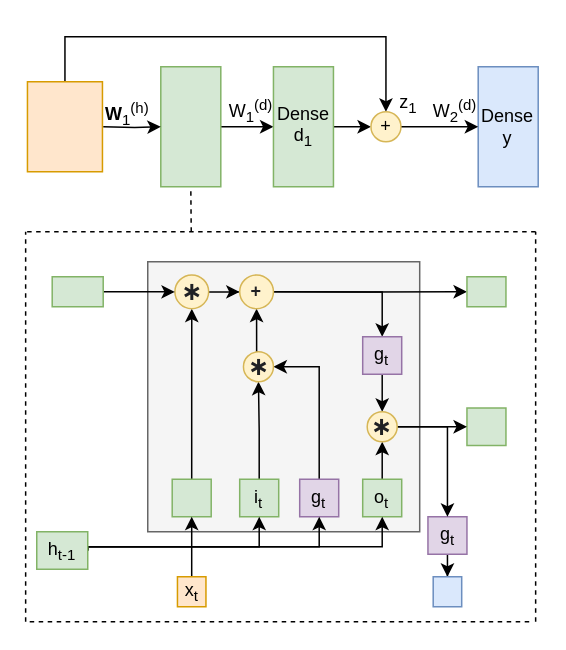
The diagram is 566 pixels wide and 650 high, and some of its shapes have lost their labels. Each missing label, with the centre of its shape:
c t: the point at 485,291
c t-1: the point at 77,291
f t: the point at 191,497
h t: the point at 485,426
Input x: the point at 64,126
LSTM h 1: the point at 190,126
y t: the point at 447,591
